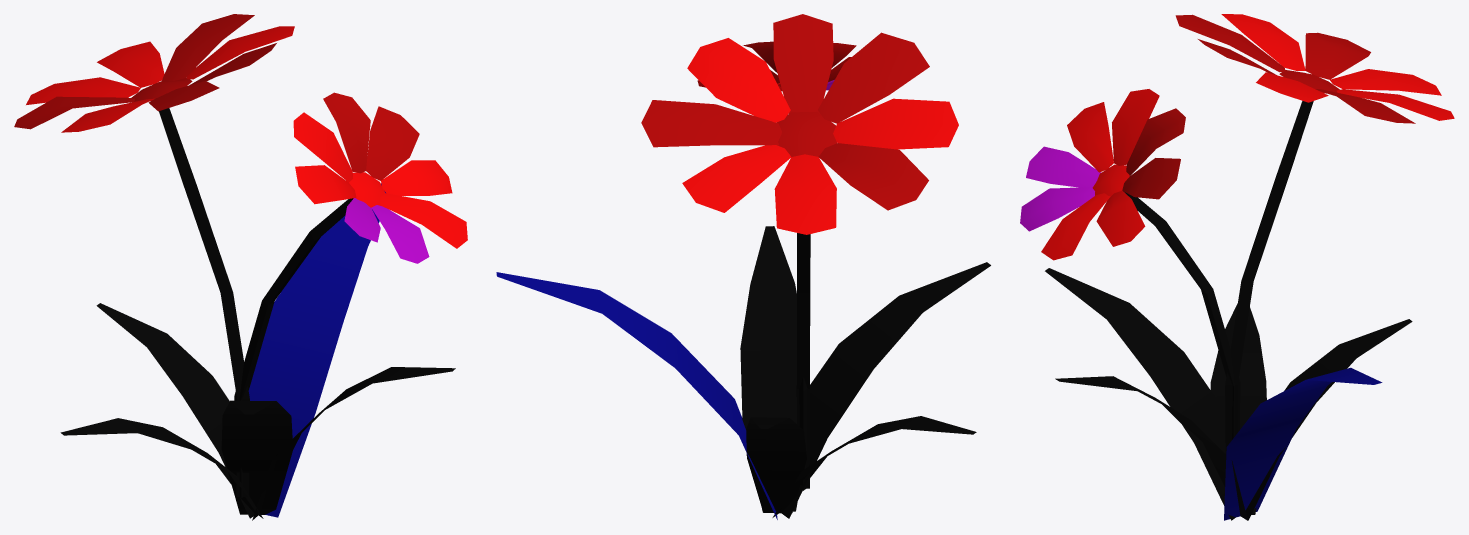
Rendered from flower_05_bell.glb.
3 renders of one model, left to right at view 1: azimuth 30°, elevation 25°; view 2: azimuth 150°, elevation 25°; view 3: azimuth 270°, elevation 25°, orthographic. The views are drawn at different scales.
Visible parts, largest first — view 1: Flower_Petals, Flower_Leaves, Flower_Stem; view 2: Flower_Petals, Flower_Leaves, Flower_Stem; view 3: Flower_Petals, Flower_Leaves, Flower_Stem.
Part boxes in pixels (x1,y1,x2,y2): Flower_Petals: [14, 14, 467, 263]; Flower_Leaves: [60, 183, 455, 520]; Flower_Stem: [159, 108, 353, 497]; Flower_Petals: [641, 14, 958, 234]; Flower_Leaves: [496, 226, 990, 519]; Flower_Stem: [796, 233, 810, 490]; Flower_Petals: [1020, 14, 1454, 260]; Flower_Leaves: [1045, 268, 1412, 520]; Flower_Stem: [1123, 101, 1313, 454].
Bounding box in the file's own units: 0.9212 × 1.04 × 0.8775.
